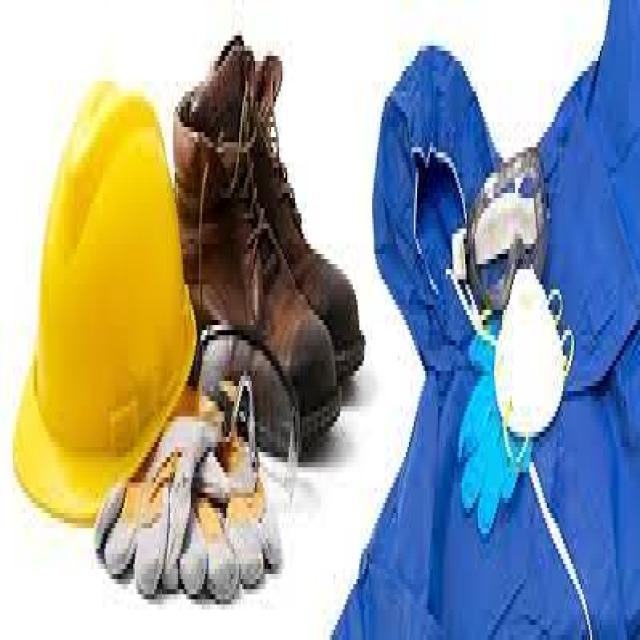shoes: (174, 41, 366, 450)
